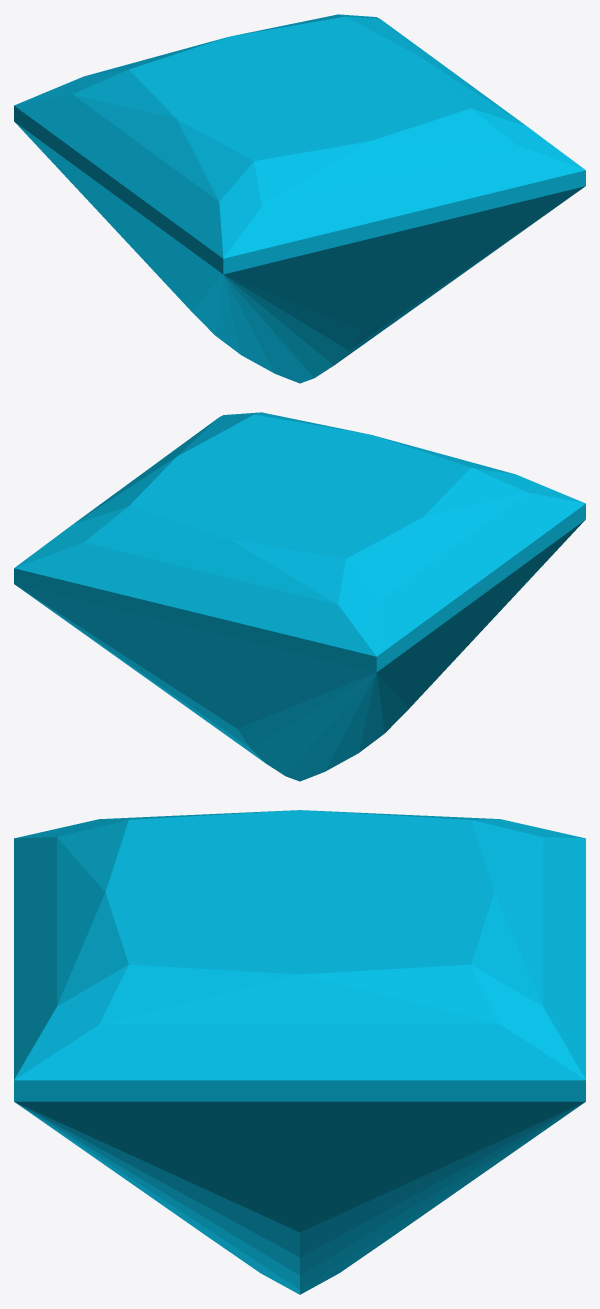
File: Head_Single Halo_Princess_3.0ct_Diamond.glb
The picture shows the model from 3 angles, top to bottom: view 1: azimuth 30°, elevation 25°; view 2: azimuth 150°, elevation 25°; view 3: azimuth 270°, elevation 25°; orthographic projection. The views are drawn at different scales.
Bounding box in the file's own units: 0.00797 × 0.00619 × 0.00797.
